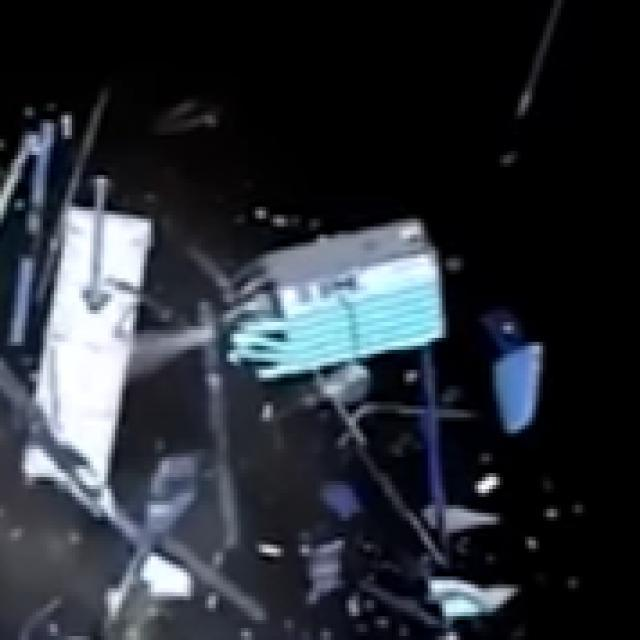large_debris: (0, 382, 268, 640), (216, 212, 457, 372), (45, 187, 157, 509), (0, 89, 97, 363), (277, 526, 505, 624), (304, 383, 398, 534), (403, 310, 457, 568), (480, 282, 554, 428)
